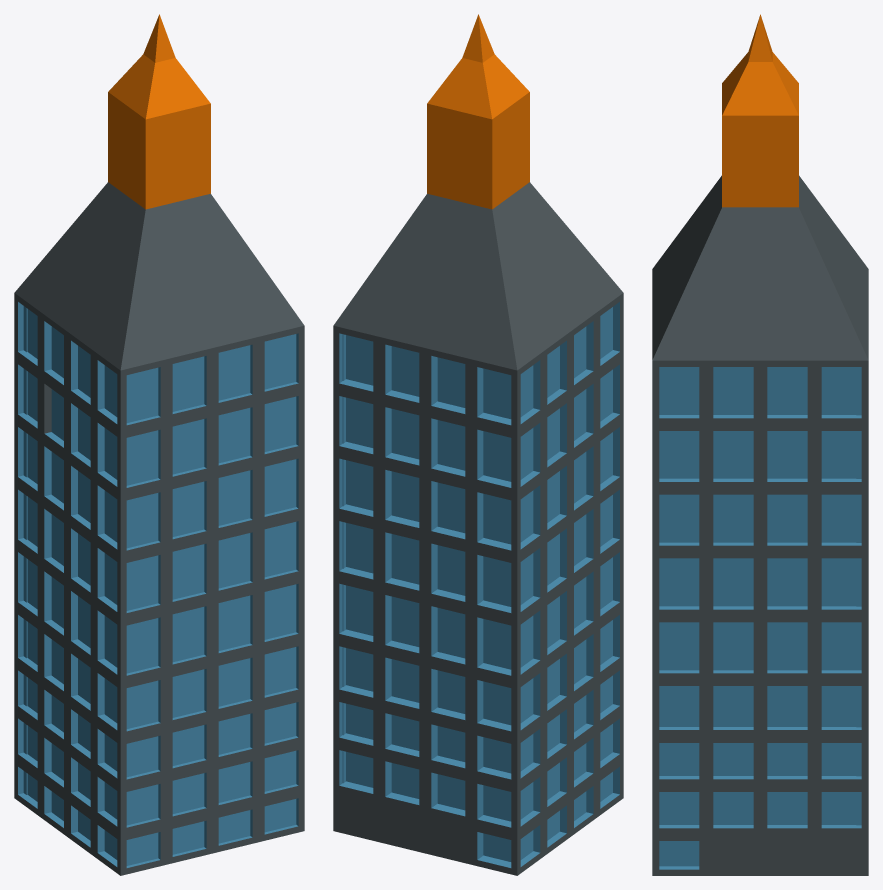
File: Building.fbx
The picture shows the model from 3 angles, left to right: view 1: azimuth 30°, elevation 25°; view 2: azimuth 150°, elevation 25°; view 3: azimuth 270°, elevation 25°; orthographic projection.
Visible parts, largest first — view 1: Cube; view 2: Cube; view 3: Cube.
Boxes of the visible parts, left/top/right/bottom form: Cube: left=14, top=14, right=304, bottom=875; Cube: left=333, top=14, right=623, bottom=875; Cube: left=652, top=14, right=868, bottom=875.
Size of the model in its own units: 900 by 3744 by 900.
